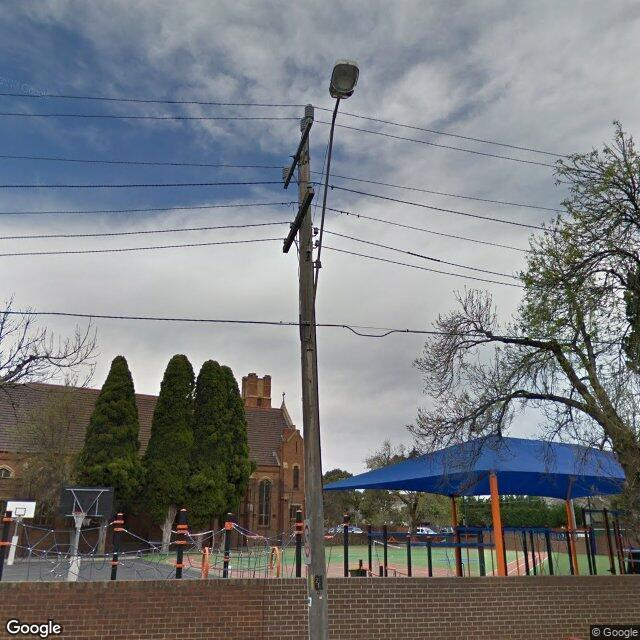HV-transmission: (281, 103, 315, 189)
crossarm: (280, 186, 316, 254), (283, 119, 314, 190)
streetlight: (307, 62, 360, 343)
timber-pole: (298, 147, 329, 640)
